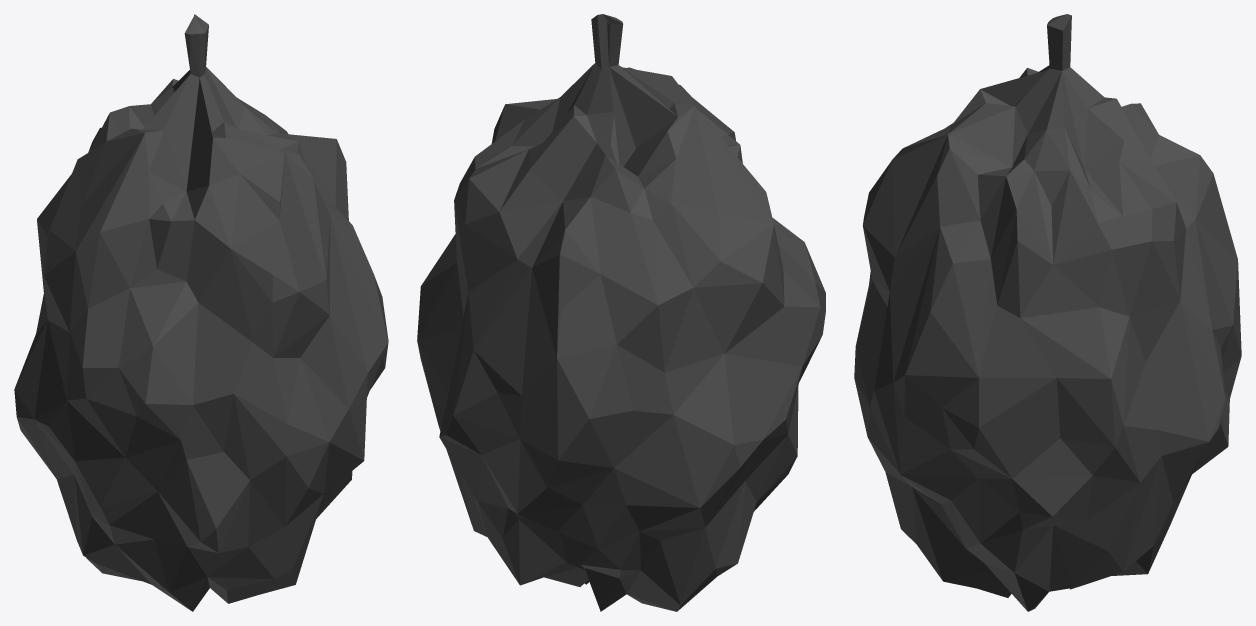
Rendered from LightTrashBag.fbx.
3 views of the same model, side by side, from view 1: azimuth 30°, elevation 25°; view 2: azimuth 150°, elevation 25°; view 3: azimuth 270°, elevation 25° (orthographic). The views are drawn at different scales.
Visible parts, largest first — view 1: LightTrashBag; view 2: LightTrashBag; view 3: LightTrashBag.
Part boxes in pixels (x1,y1,x2,y2): LightTrashBag: [14, 14, 388, 611]; LightTrashBag: [417, 14, 825, 611]; LightTrashBag: [854, 14, 1241, 611].
Size of the model in its own units: 51.33 by 89.35 by 53.76.
